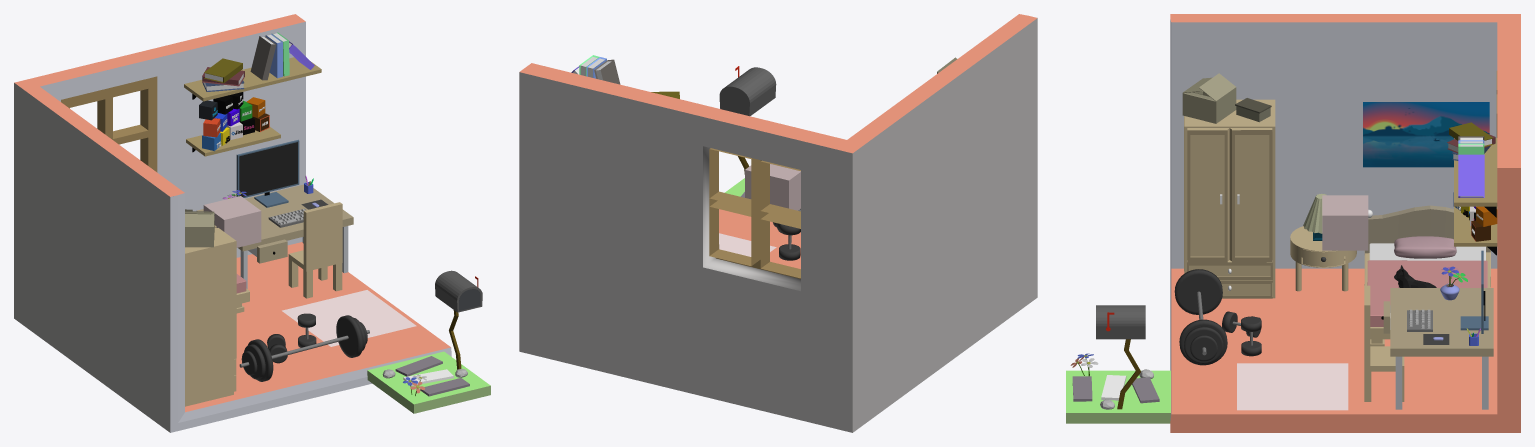
Rendered from house.gltf.
The picture shows the model from 3 angles, left to right: view 1: azimuth 30°, elevation 25°; view 2: azimuth 150°, elevation 25°; view 3: azimuth 270°, elevation 25°; orthographic projection. The views are drawn at different scales.
Visible parts, largest first — view 1: house, wardrobe, table, chair, windowPlane, carpet, walk, books, monitorScreen, bar, loader, pole (+6 smaller); view 2: house, windowPlane, pole, loader, books, carpet, dumbbell2; view 3: house, wardrobe, bed, table, poster, carpet, walk, bar, loader, nighstand, books, pole (+10 smaller).
Part boxes in pixels (x1,y1,x2,y2): house: [14, 14, 451, 432]; wardrobe: [185, 225, 236, 406]; table: [197, 175, 353, 288]; chair: [288, 202, 342, 298]; windowPlane: [61, 76, 157, 172]; carpet: [282, 290, 416, 346]; walk: [367, 351, 490, 413]; books: [202, 32, 314, 91]; monitorScreen: [239, 142, 297, 196]; bar: [239, 315, 369, 381]; loader: [203, 196, 261, 247]; pole: [435, 270, 482, 369]; house: [519, 14, 1037, 432]; windowPlane: [709, 148, 800, 278]; pole: [719, 66, 776, 174]; loader: [745, 164, 800, 210]; books: [571, 55, 679, 98]; carpet: [719, 233, 776, 256]; dumbbell2: [779, 224, 800, 260]; house: [1170, 14, 1520, 432]; wardrobe: [1184, 99, 1275, 298]; bed: [1364, 205, 1490, 346]; table: [1381, 288, 1493, 409]; poster: [1363, 102, 1489, 167]; carpet: [1237, 363, 1348, 410]; walk: [1066, 370, 1170, 423]; bar: [1174, 269, 1227, 365]; loader: [1322, 195, 1368, 250]; nighstand: [1290, 193, 1356, 291]; books: [1447, 122, 1495, 197]; pole: [1096, 305, 1145, 409].
Size of the model in its own units: 5.76 by 4.67 by 7.18.
132 materials, 1 textured.
